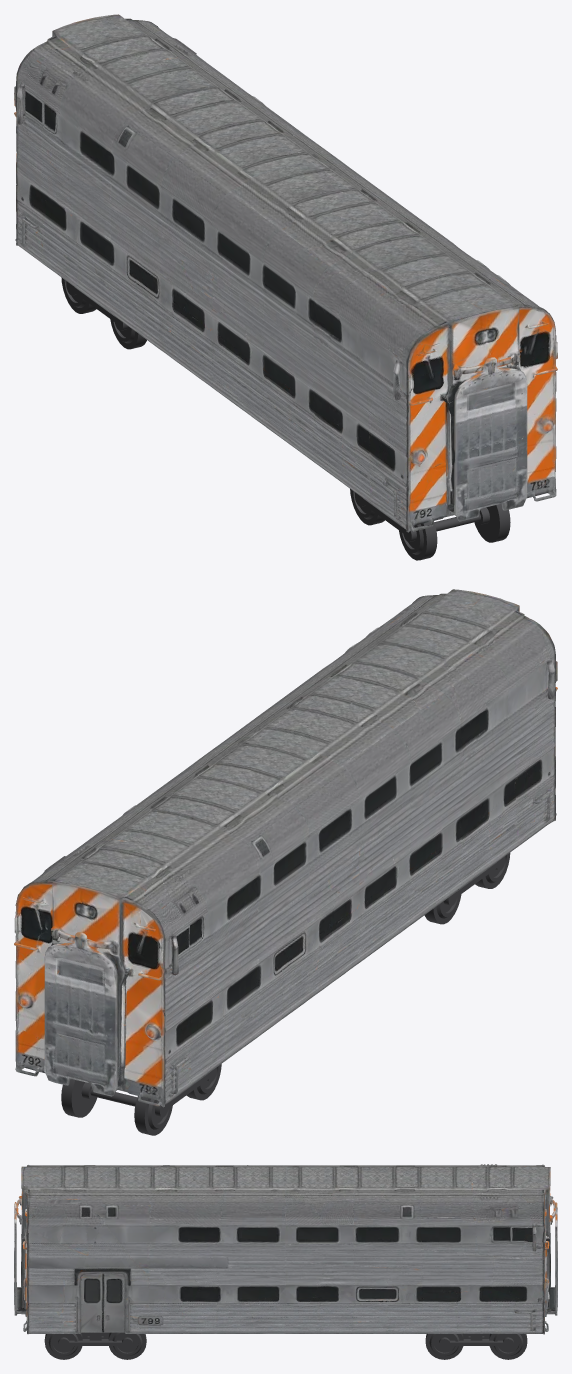
File: tr-dd-car.glb
3 views of the same model, one above another, from view 1: azimuth 30°, elevation 25°; view 2: azimuth 150°, elevation 25°; view 3: azimuth 270°, elevation 25° (orthographic). The views are drawn at different scales.
Visible parts, largest first — view 1: Mesh_0, bogie_0, bogie_1; view 2: Mesh_0, bogie_1, bogie_0; view 3: Mesh_0, bogie_0, bogie_1.
Part boxes in pixels (x1=…): Mesh_0: x1=14, y1=14, x2=557, y2=532; bogie_0: x1=350, y1=489, x2=510, y2=560; bogie_1: x1=61, y1=277, x2=146, y2=349; Mesh_0: x1=14, y1=589, x2=557, y2=1107; bogie_1: x1=61, y1=1064, x2=221, y2=1135; bogie_0: x1=424, y1=853, x2=510, y2=924; Mesh_0: x1=14, y1=1164, x2=557, y2=1334; bogie_0: x1=44, y1=1332, x2=146, y2=1359; bogie_1: x1=425, y1=1334, x2=527, y2=1359.
Size of the model in its own units: 0.4238 by 0.6579 by 1.9.
2 materials, 1 textured.
